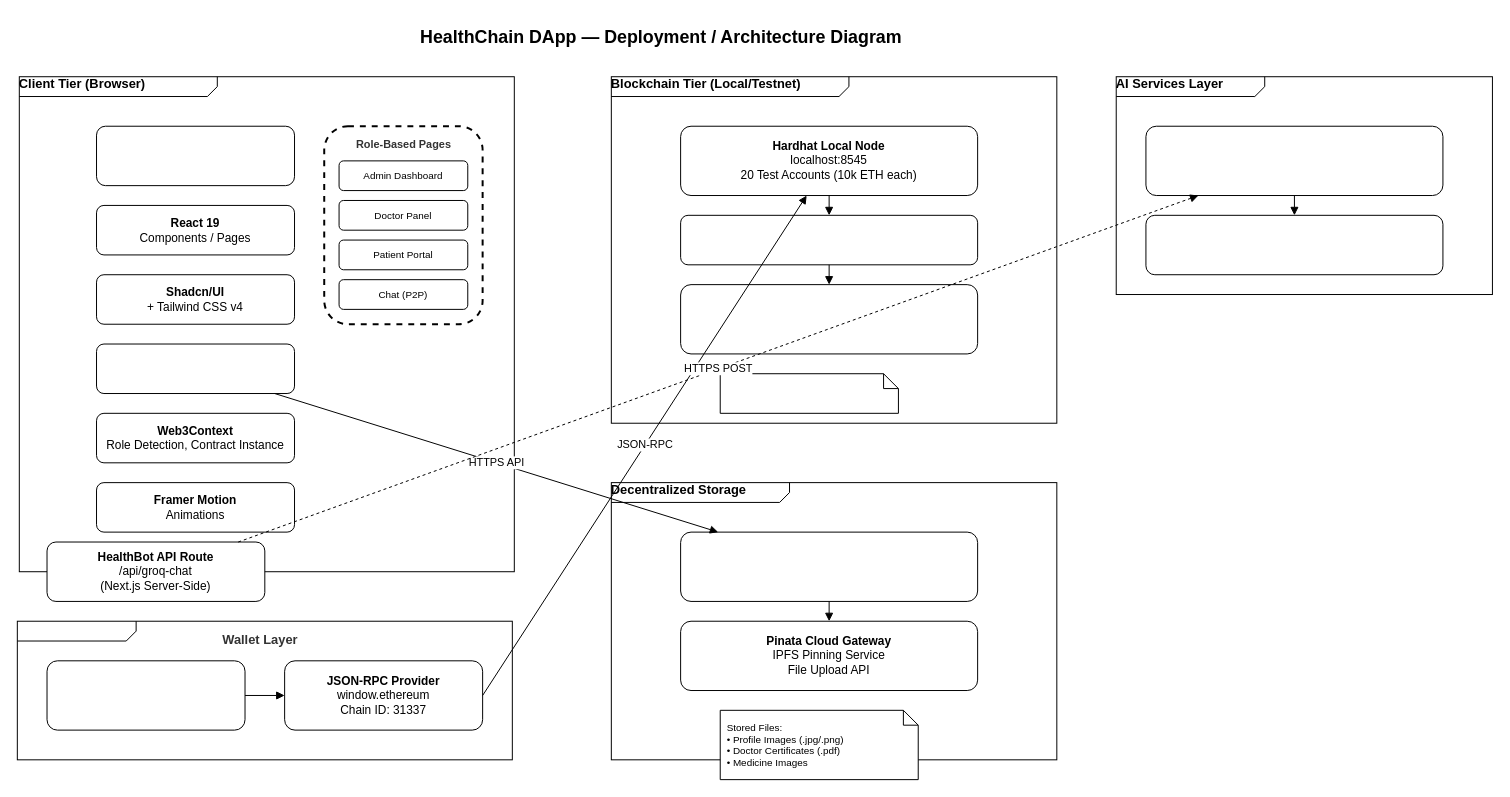
Some shapes in this 1510 by 797 pixel diagram are drawn without their labels. The shapes that lost their labels are listed below. From the top down, each one's centre as x and y in pixels, then its label:
the point at 195,155: Next.js 16 App Router (Turbopack Dev Server)
the point at 1294,160: Groq Cloud API groqcloud.com Inference Endpoint (HTTPS)
the point at 829,239: EVM (Ethereum Virtual Machine) Solidity ^0.8.20 Runtime
the point at 1294,244: LLaMA 3.1 8B Instant Open-Source LLM Sub-second Response Time
the point at 829,319: Healthcare.sol Deployed Smart Contract (All Business Logic On-Chain)
the point at 195,368: Ethers.js v6 Blockchain Provider / Signer
the point at 808,393: Contract ABI + Address (config/index.js)
the point at 829,566: IPFS Network Content-Addressed Storage Immutable File Hashes (CID)
the point at 145,695: MetaMask Extension Transaction Signing Account Management
